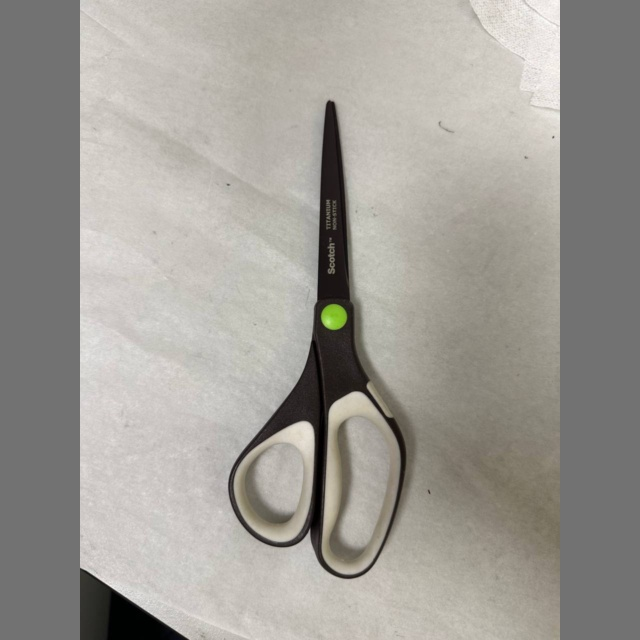scissor: (228, 101, 405, 578)
